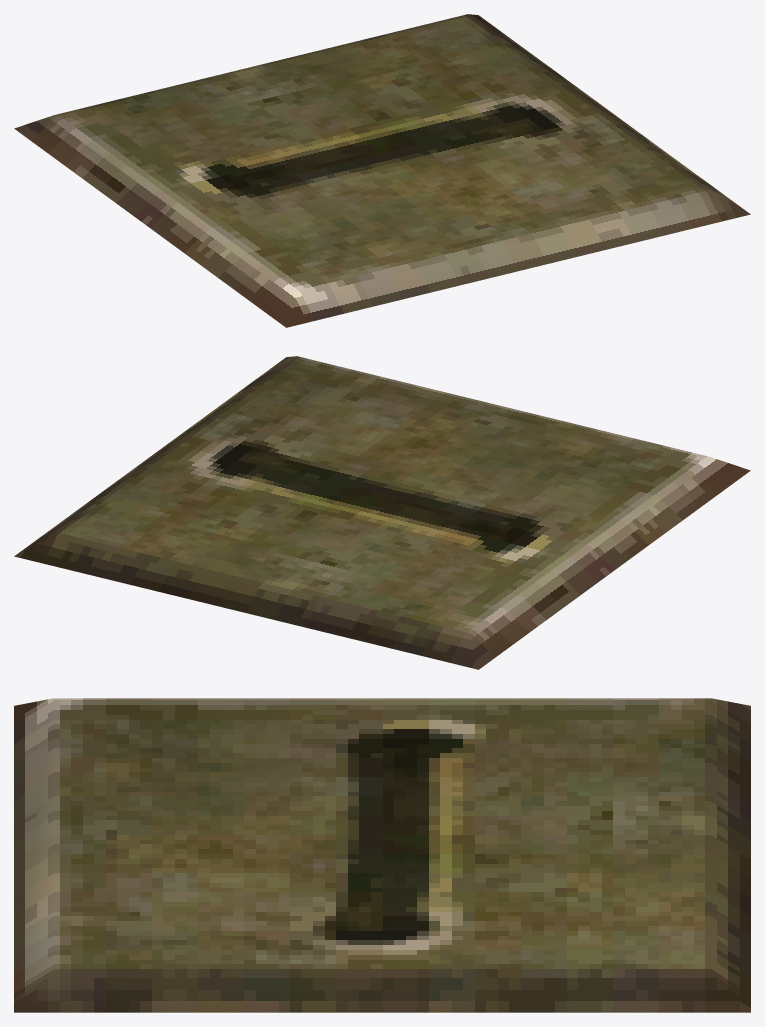
The model's file is EREBOR_RUNE_PZL_EREBOR_PZL_TILE_STATIC41.fbx.
The picture shows the model from 3 angles, top to bottom: view 1: azimuth 30°, elevation 25°; view 2: azimuth 150°, elevation 25°; view 3: azimuth 270°, elevation 25°; orthographic projection. The views are drawn at different scales.
Visible parts, largest first — view 1: EREBOR_RUNE_PZL_EREBOR_PZL_TILE_STATIC41; view 2: EREBOR_RUNE_PZL_EREBOR_PZL_TILE_STATIC41; view 3: EREBOR_RUNE_PZL_EREBOR_PZL_TILE_STATIC41.
Boxes of the visible parts, bbox=[...] form: EREBOR_RUNE_PZL_EREBOR_PZL_TILE_STATIC41: bbox=[14, 14, 750, 327]; EREBOR_RUNE_PZL_EREBOR_PZL_TILE_STATIC41: bbox=[14, 356, 750, 669]; EREBOR_RUNE_PZL_EREBOR_PZL_TILE_STATIC41: bbox=[14, 698, 750, 1012].
Bounding box in the file's own units: 9945 × 370 × 10093.
1 material, 1 textured.
